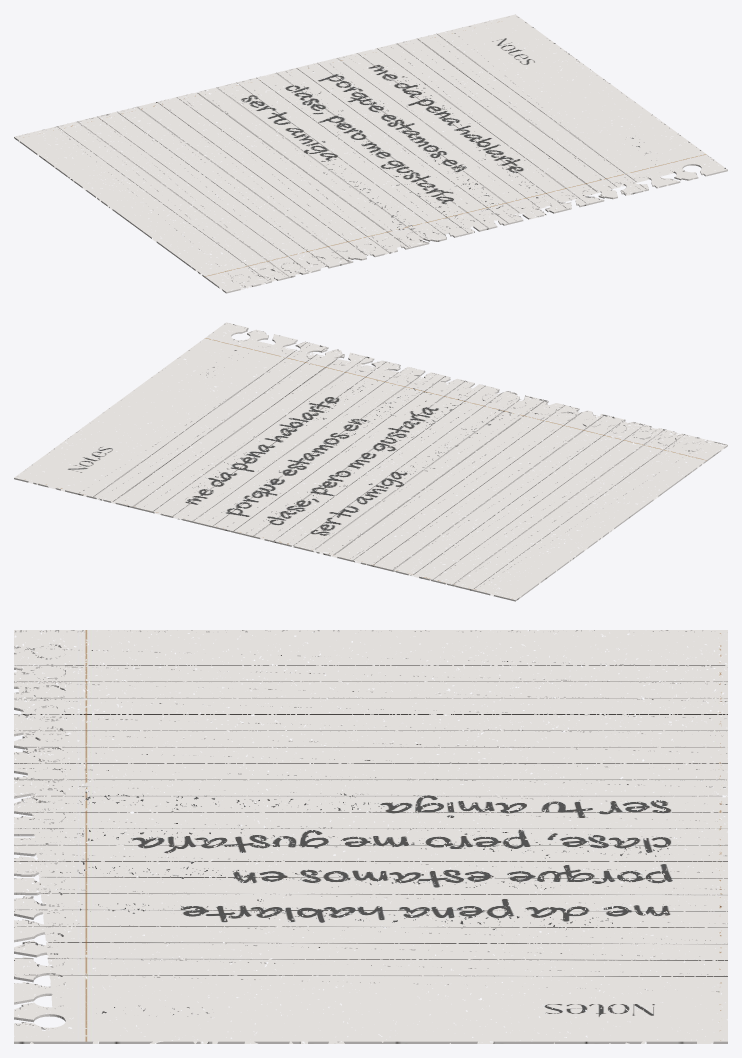
Rendered from Nota Salon.fbx.
3 renders of one model, top to bottom at view 1: azimuth 30°, elevation 25°; view 2: azimuth 150°, elevation 25°; view 3: azimuth 270°, elevation 25°, orthographic. The views are drawn at different scales.
Parts seen in each view (by area): view 1: Nota Papel.003; view 2: Nota Papel.003; view 3: Nota Papel.003.
Boxes of the visible parts, <box> form: Nota Papel.003: <box>14,14,727,293</box>; Nota Papel.003: <box>14,322,727,601</box>; Nota Papel.003: <box>14,630,727,1043</box>.
Bounding box in the file's own units: 32.8 × 0.0875 × 24.05.
Materials: 1 (1 with a texture image).
